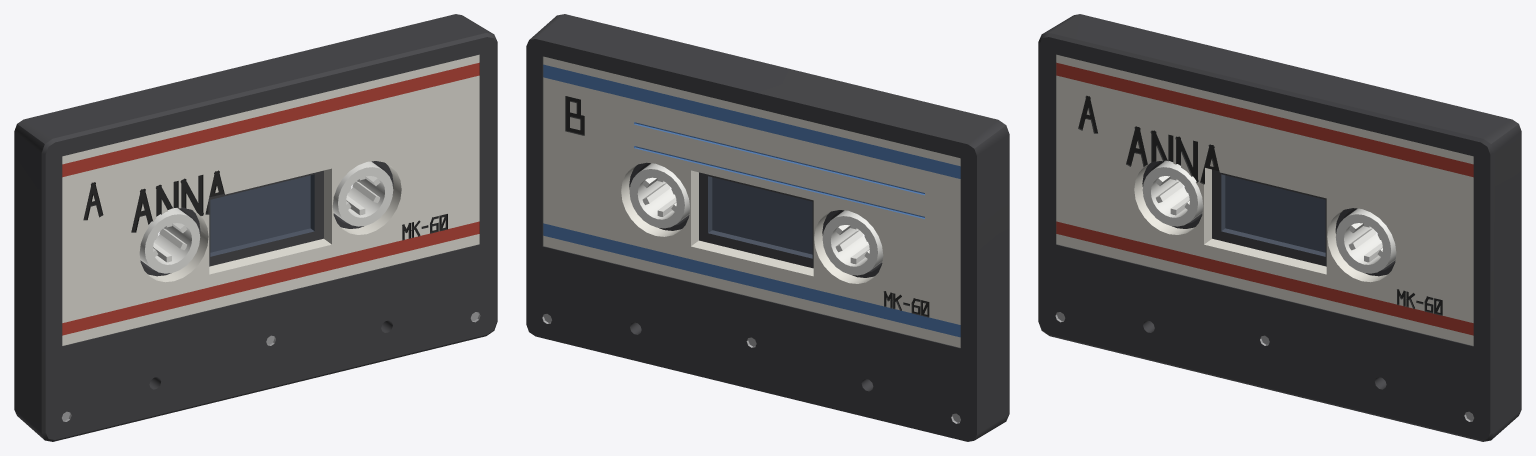
The model's file is tape_practice.glb.
3 views of the same model, side by side, from view 1: azimuth 30°, elevation 25°; view 2: azimuth 150°, elevation 25°; view 3: azimuth 330°, elevation 25° (orthographic).
Visible parts, largest first — view 1: shell, label_a, hub_l, hub_r; view 2: shell, label_b, hub_l, hub_r; view 3: shell, label_a, hub_l, hub_r.
Boxes of the visible parts, left/top/right/bottom form: shell: left=14, top=14, right=497, bottom=441; label_a: left=62, top=54, right=479, bottom=345; hub_l: left=139, top=208, right=200, bottom=273; hub_r: left=332, top=161, right=393, bottom=226; shell: left=526, top=14, right=1009, bottom=441; label_b: left=543, top=56, right=960, bottom=347; hub_l: left=822, top=210, right=883, bottom=275; hub_r: left=629, top=163, right=689, bottom=228; shell: left=1038, top=14, right=1521, bottom=441; label_a: left=1056, top=54, right=1473, bottom=345; hub_l: left=1142, top=160, right=1203, bottom=226; hub_r: left=1335, top=208, right=1396, bottom=273.
Bounding box in the file's own units: 0.1004 × 0.0638 × 0.012.
